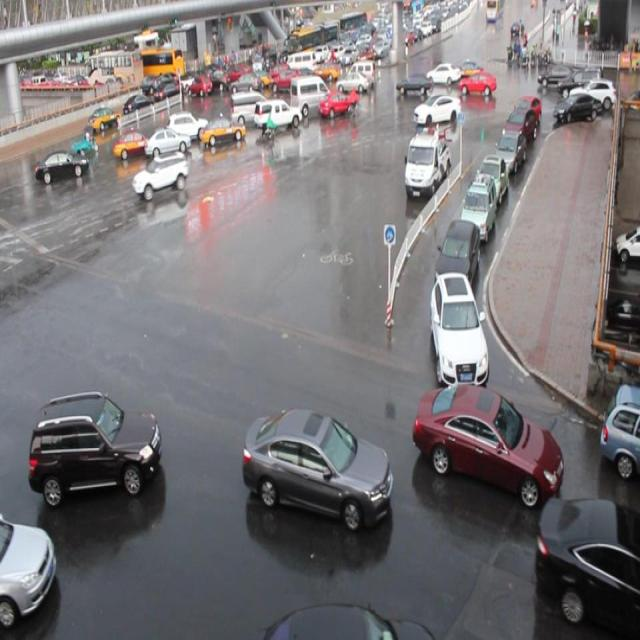bus: (403, 131, 451, 198)
car: (242, 404, 392, 528), (413, 382, 565, 504), (535, 493, 640, 640), (29, 392, 158, 502), (430, 268, 488, 384), (1, 518, 57, 626), (598, 381, 640, 471), (436, 213, 481, 292), (132, 150, 189, 197), (460, 173, 498, 242), (473, 150, 509, 208), (36, 146, 89, 184), (252, 96, 302, 133), (199, 112, 247, 150), (144, 126, 192, 160), (166, 108, 209, 144), (412, 94, 460, 125), (495, 124, 527, 170), (507, 106, 539, 150), (113, 129, 153, 158), (318, 90, 355, 117), (517, 94, 543, 132)
truck: (288, 75, 332, 115), (228, 90, 271, 128)
